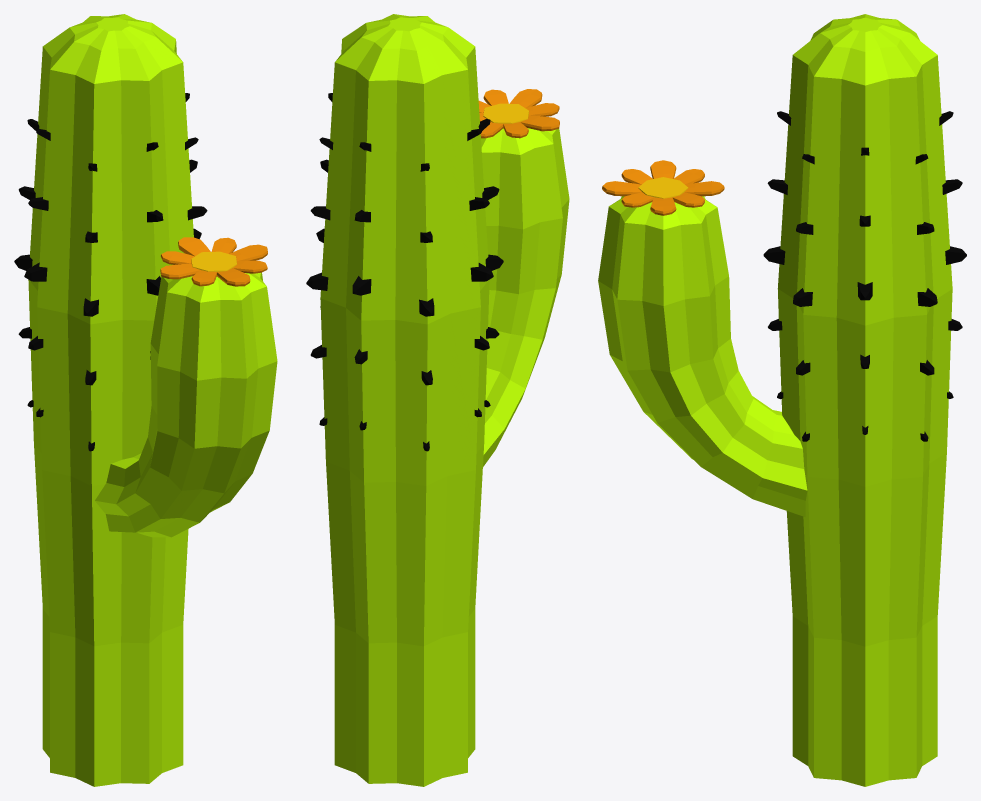
File: Cardon04_01Brazos_Flor_Anaranjada.fbx
The picture shows the model from 3 angles, left to right: view 1: azimuth 30°, elevation 25°; view 2: azimuth 150°, elevation 25°; view 3: azimuth 270°, elevation 25°; orthographic projection.
Parts seen in each view (by area): view 1: Cactus, Flor_Anaranjada, Espinas; view 2: Cactus, Espinas, Flor_Anaranjada; view 3: Cactus, Espinas, Flor_Anaranjada.
Boxes of the visible parts, bbox=[...] form: Cactus: bbox=[28, 14, 277, 786]; Flor_Anaranjada: bbox=[160, 237, 267, 286]; Espinas: bbox=[14, 93, 207, 451]; Cactus: bbox=[320, 14, 569, 786]; Espinas: bbox=[306, 93, 503, 451]; Flor_Anaranjada: bbox=[478, 89, 559, 138]; Cactus: bbox=[598, 14, 952, 786]; Espinas: bbox=[763, 111, 966, 441]; Flor_Anaranjada: bbox=[602, 160, 724, 215].
Size of the model in its own units: 53.18 by 211 by 96.46.
